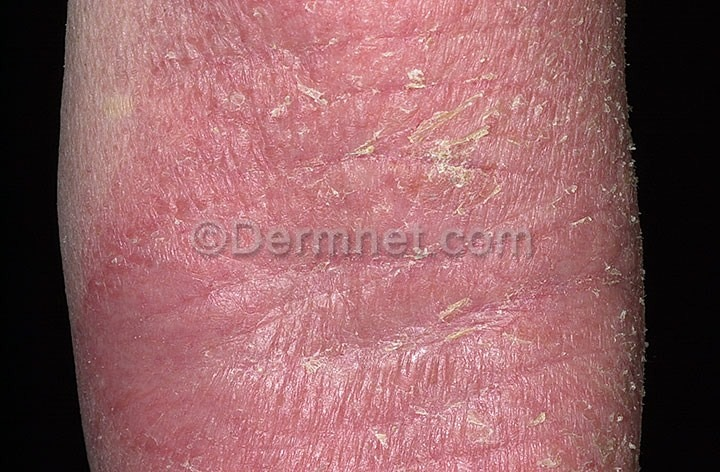Eczema: (78, 1, 663, 472)
